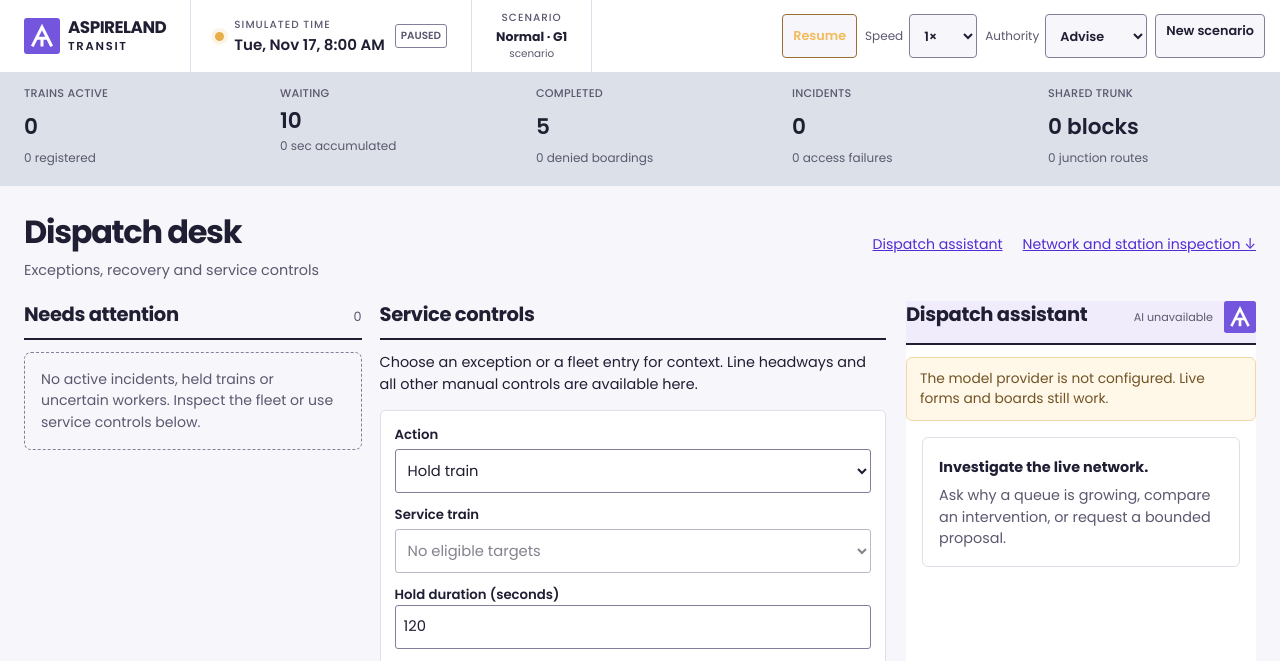
keeps empty queues actionable and reports authoritative rejection without hiding the controls
Later steps or results of the test are not shown.
Check: the text "No active incidents, held trains or uncertain workers" is shown, box [41, 369, 333, 432]
Select "Clear incident" in the dropdown labelled "Action" at (633, 470), box [395, 448, 871, 492]
(page scrolled)
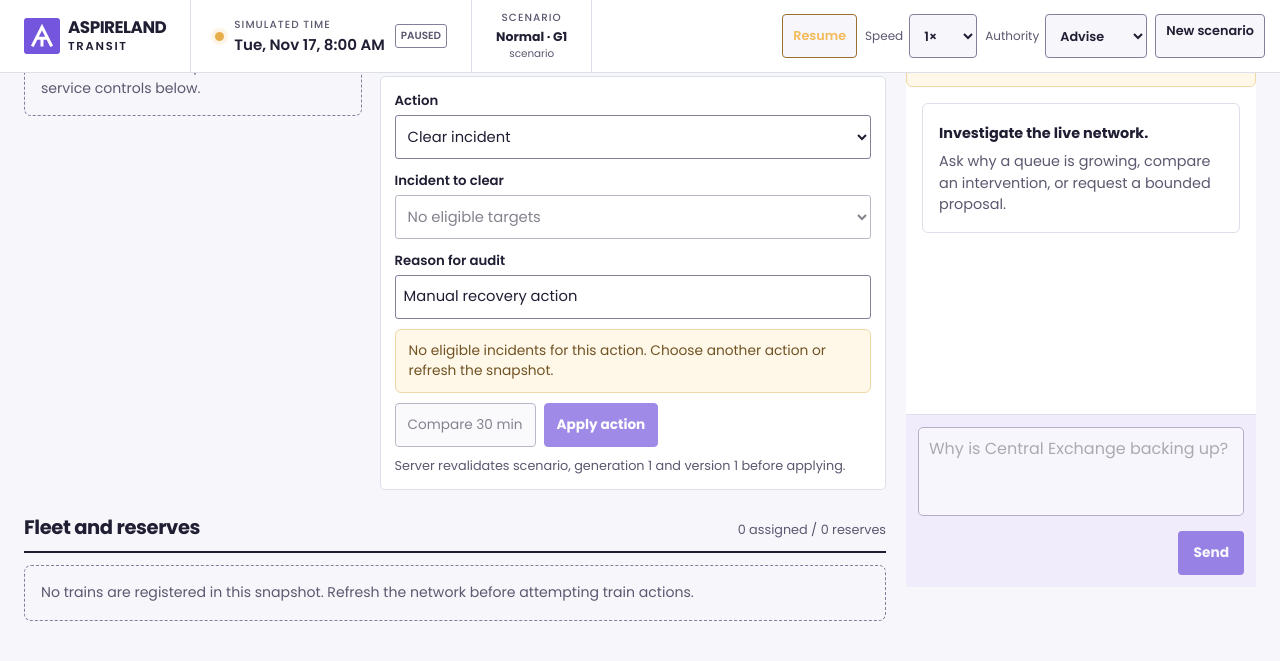
Check: the button "Apply action" is disabled, box [544, 402, 658, 446]
Check: the text "No eligible incidents" is shown, box [409, 340, 826, 380]
